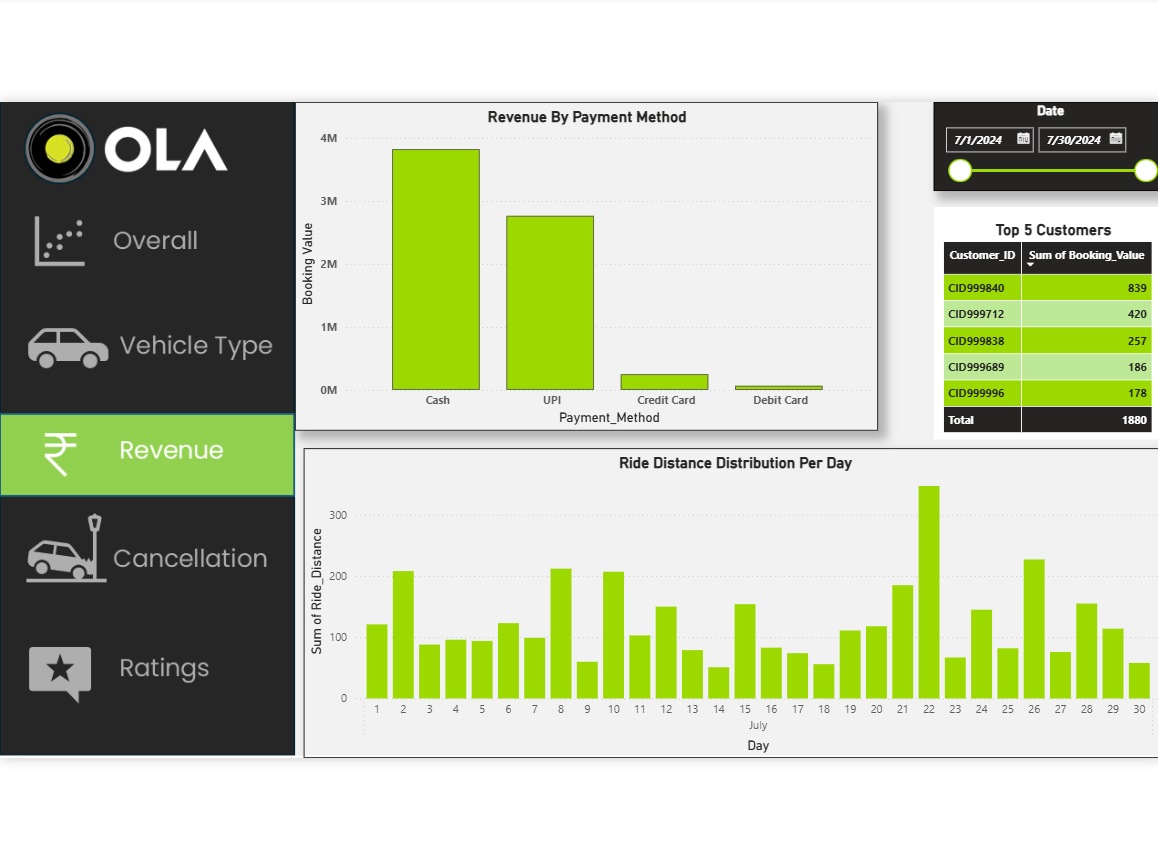

The dashboard page shown, as its layout file describes it:
{"tool":"powerbi","page":{"name":"Revenue","canvas":[1280,720],"ordinal":2},"visuals":[{"type":"actionButton","box":[0,214.1,323.8,97.4],"z":0},{"type":"actionButton","box":[0,338.9,323.8,91.9],"z":1000},{"type":"actionButton","box":[0,444.6,323.8,91.9],"z":2000},{"type":"actionButton","box":[0,580.4,323.8,91.9],"z":3000},{"type":"slicer","title":"Date","fields":{"Values":["ola bookings.Date"]},"box":[1025,0,255.2,97.4],"z":4000},{"type":"columnChart","title":"Revenue By Payment Method","fields":{"Y":["Sum(ola bookings.Booking_Value)"],"Category":["ola bookings.Payment_Method"]},"box":[323.6,0,640,360.6],"z":5000},{"type":"columnChart","title":"Ride Distance Distribution Per Day","fields":{"Y":["Sum(ola bookings.Ride_Distance)"],"Category":["ola bookings.Date.Variation.Date Hierarchy.Month","ola bookings.Date.Variation.Date Hierarchy.Day"]},"box":[333.4,380.1,946.8,340.3],"z":6000},{"type":"tableEx","title":"Top 5 Customers  ","fields":{"Values":["ola bookings.Customer_ID","Sum(ola bookings.Booking_Value)"]},"box":[1024.9,115.5,255.1,255.1],"z":7000}]}

Visuals, with their boxes on the page's 1280x720 design canvas (x1, y1, x2, y2). These are canvas units, not pixel positions in the 1158x857 screenshot, which may show the page scaled, cropped or inside an application window:
actionButton: x1=0, y1=214, x2=324, y2=312
actionButton: x1=0, y1=339, x2=324, y2=431
actionButton: x1=0, y1=445, x2=324, y2=536
actionButton: x1=0, y1=580, x2=324, y2=672
"Date" slicer: x1=1025, y1=0, x2=1280, y2=97
"Revenue By Payment Method" columnChart: x1=324, y1=0, x2=964, y2=361
"Ride Distance Distribution Per Day" columnChart: x1=333, y1=380, x2=1280, y2=720
"Top 5 Customers  " tableEx: x1=1025, y1=116, x2=1280, y2=371
